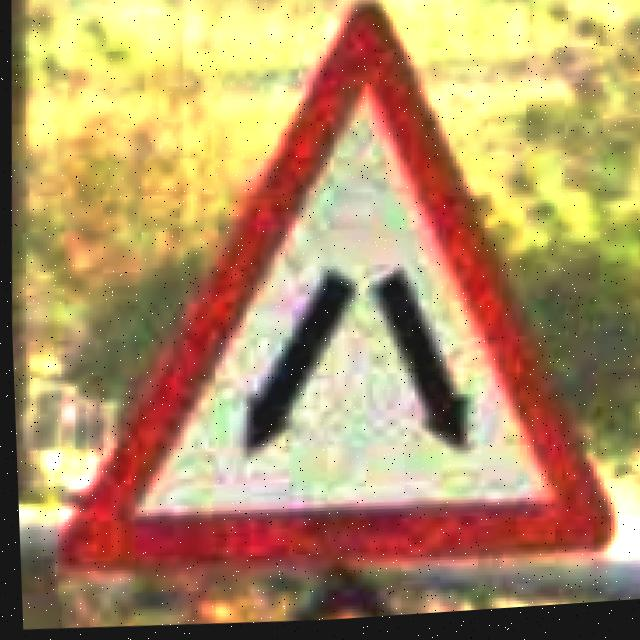diverge: (29, 0, 632, 598)
